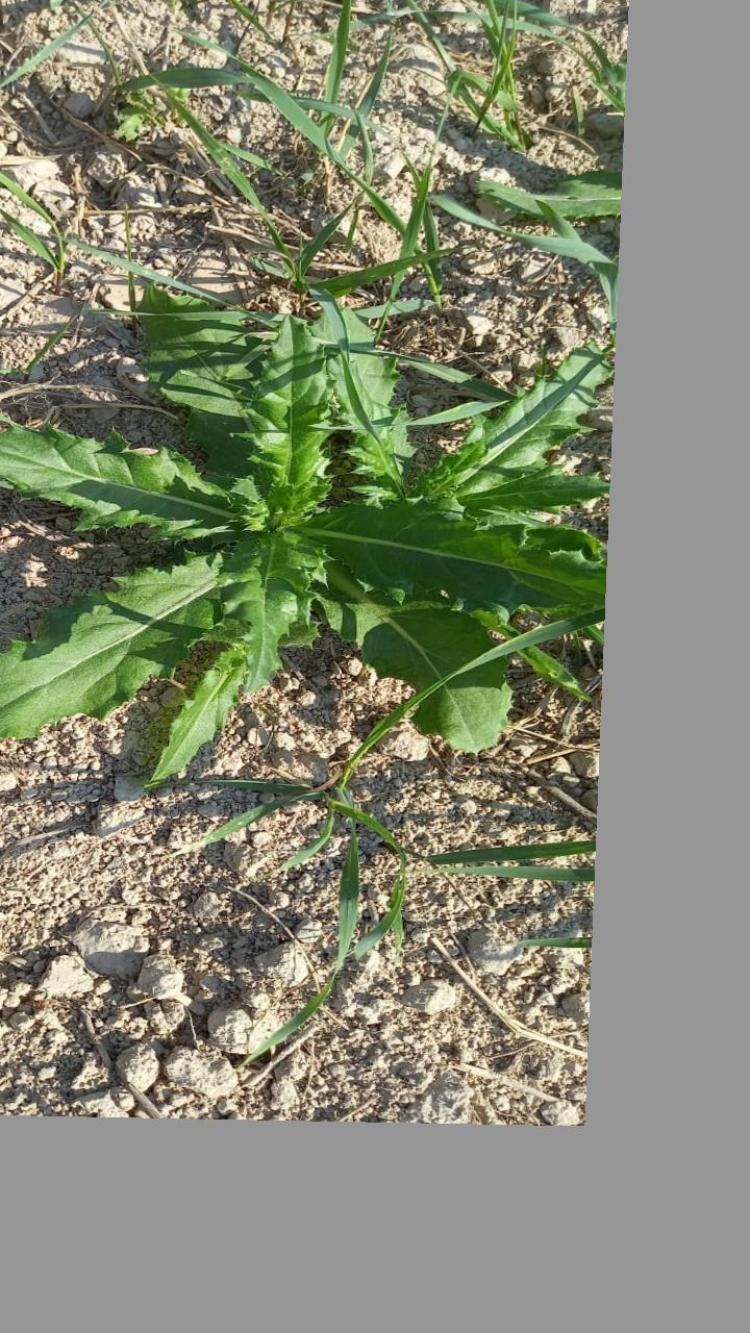osot: (4, 286, 606, 794)
